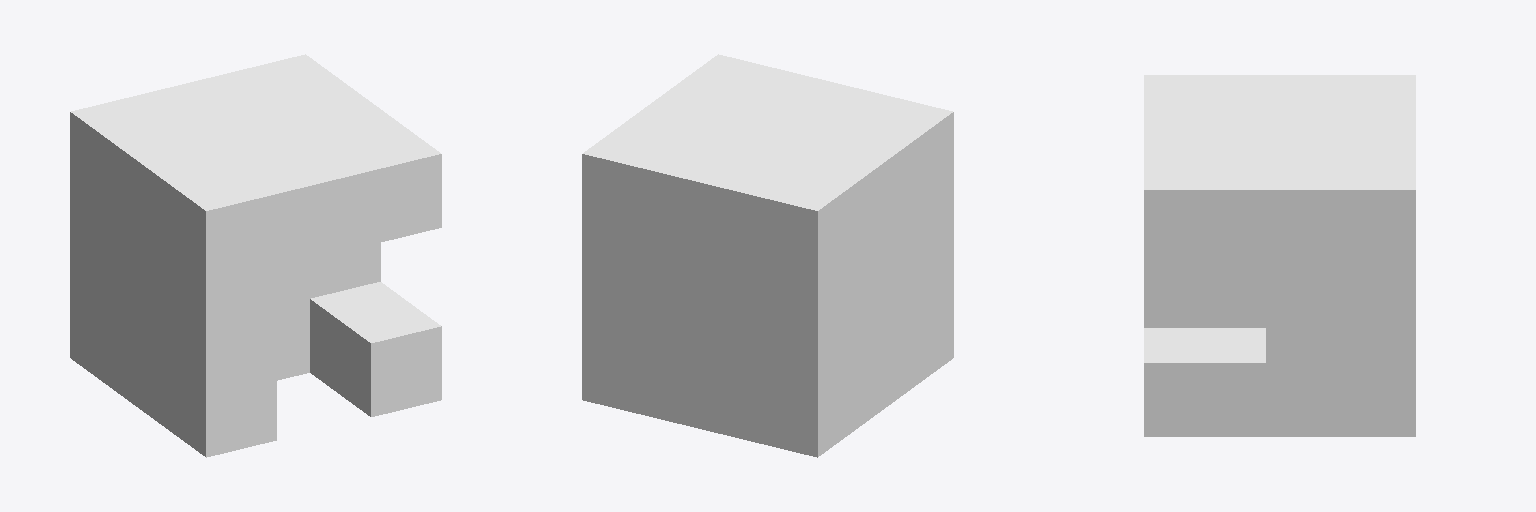
Rendered from bend_piece.obj.
3 renders of one model, left to right at view 1: azimuth 30°, elevation 25°; view 2: azimuth 150°, elevation 25°; view 3: azimuth 270°, elevation 25°, orthographic.
Visible parts, largest first — view 1: bend_piece; view 2: bend_piece; view 3: bend_piece.
Boxes of the visible parts, x1,y1,x2,y2 form: bend_piece: [70, 54, 441, 457]; bend_piece: [582, 54, 953, 457]; bend_piece: [1144, 75, 1415, 436].
Size of the model in its own units: 20 by 20 by 20.